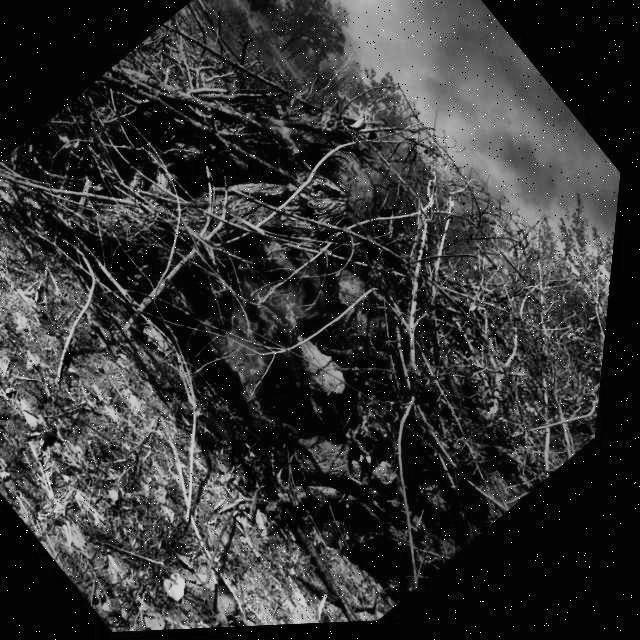Fire: (174, 202, 401, 417)
